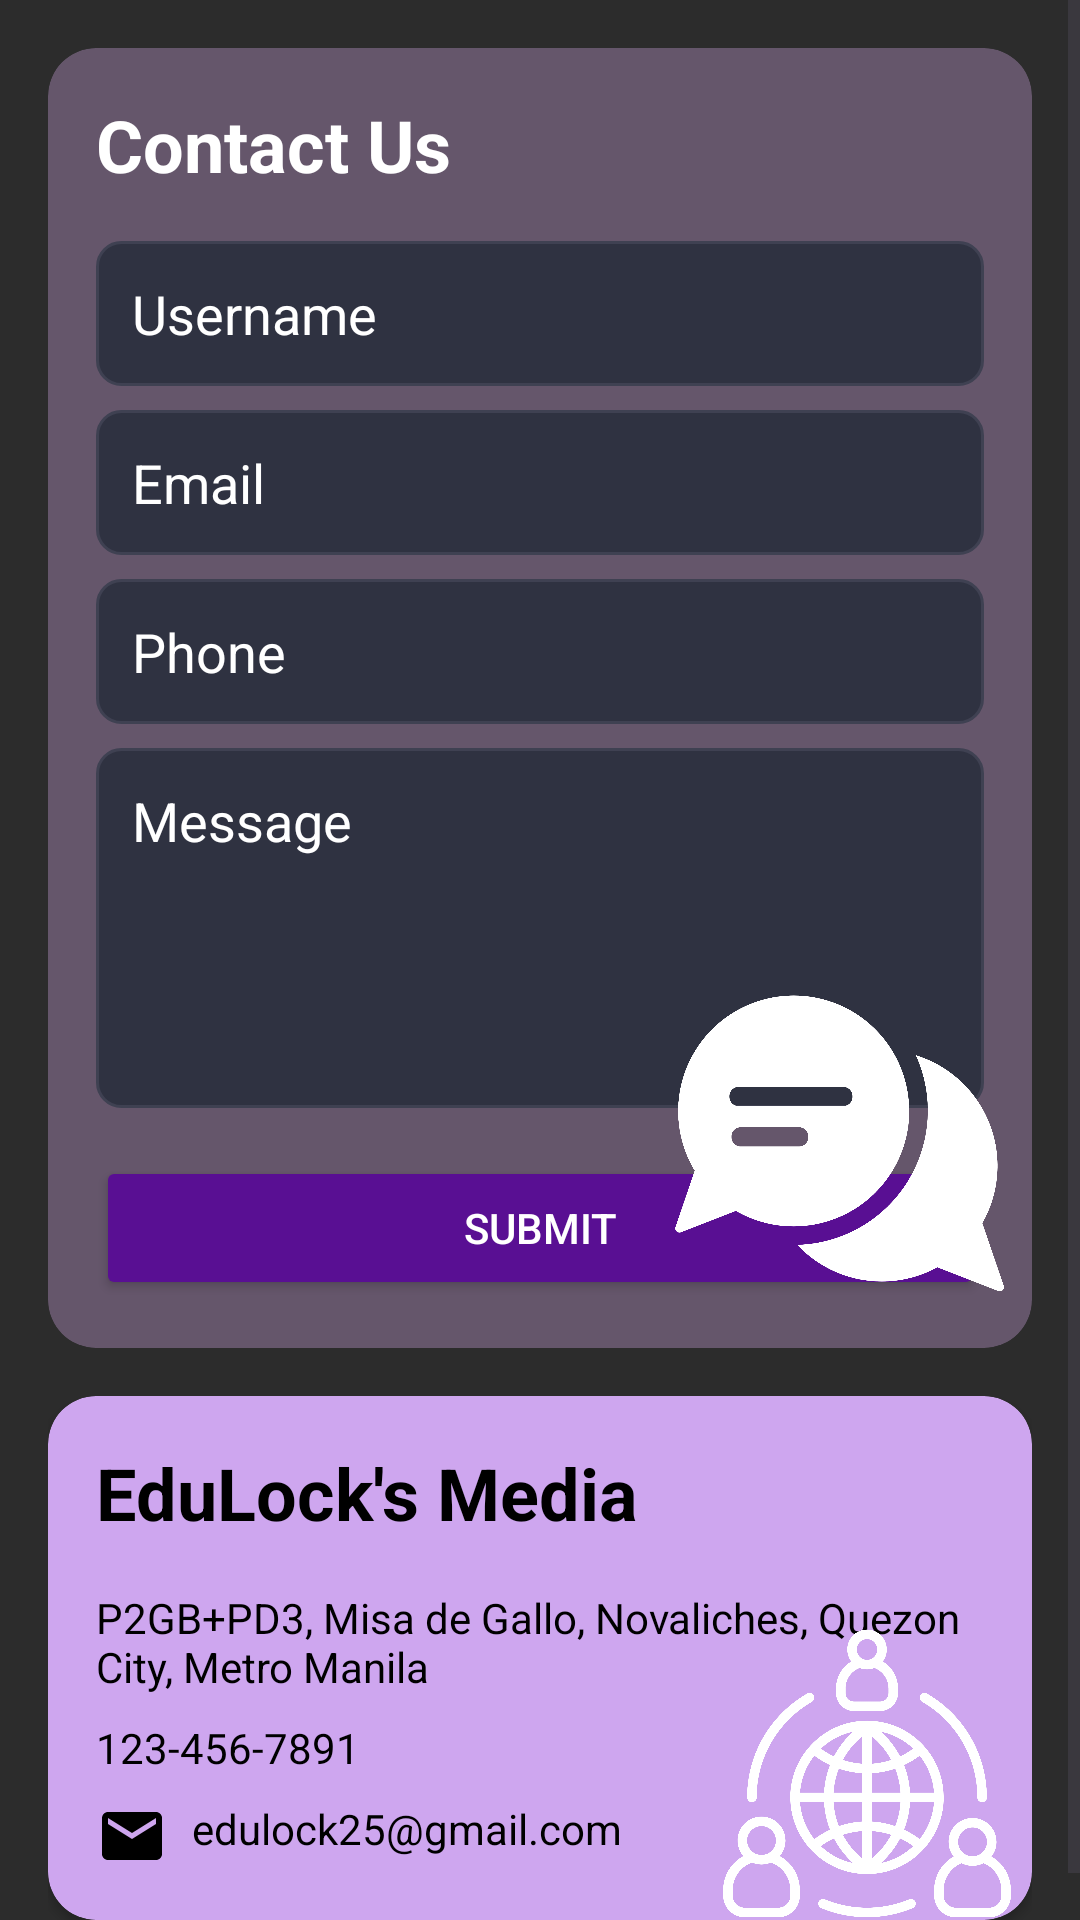

Named icons in this screenshot (1080×1920) and their centers, (x,y):
contact us first: (837,1138)
contact us second: (867,1773)
